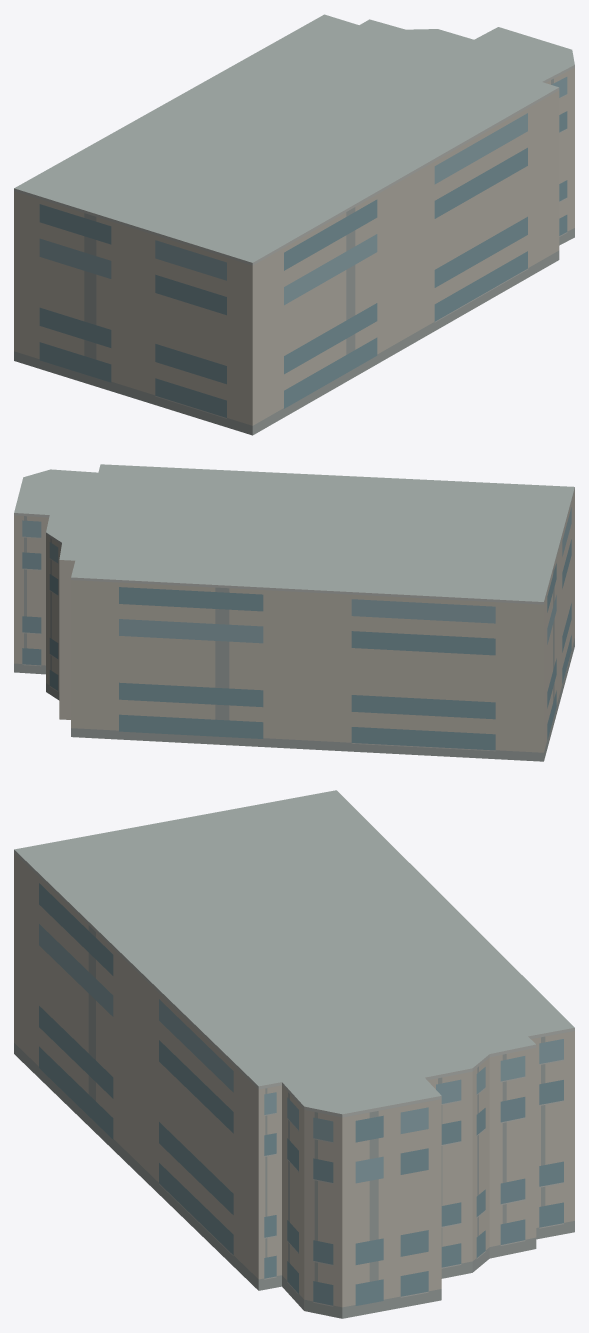
File: survey-upis-32963263.glb
3 views of the same model, one above another, from view 1: azimuth 30°, elevation 25°; view 2: azimuth 150°, elevation 25°; view 3: azimuth 270°, elevation 25° (orthographic). The views are drawn at different scales.
Parts seen in each view (by area): view 1: survey-upis-32963263.tmp; view 2: survey-upis-32963263.tmp; view 3: survey-upis-32963263.tmp.
Boxes of the visible parts, bbox=[...] form: survey-upis-32963263.tmp: bbox=[14, 14, 574, 435]; survey-upis-32963263.tmp: bbox=[14, 464, 574, 761]; survey-upis-32963263.tmp: bbox=[14, 790, 574, 1318].
Bounding box in the file's own units: 51.86 × 15.25 × 37.92.
